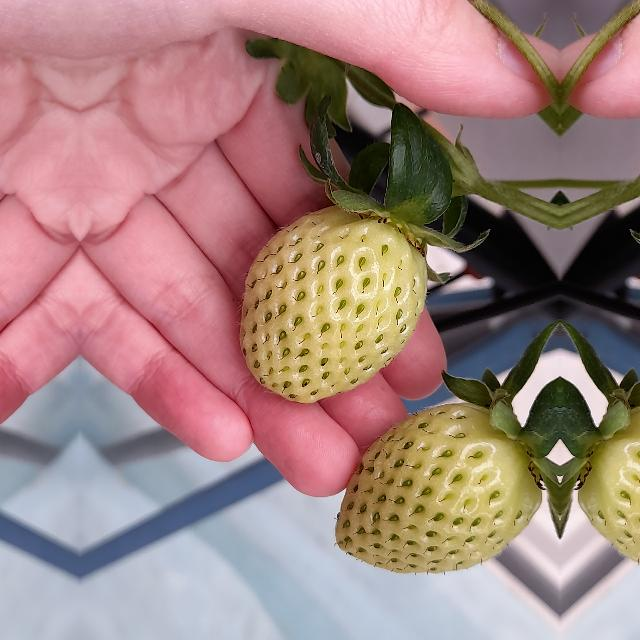Health_25: (239, 204, 427, 402), (334, 414, 534, 574), (586, 414, 640, 573)
